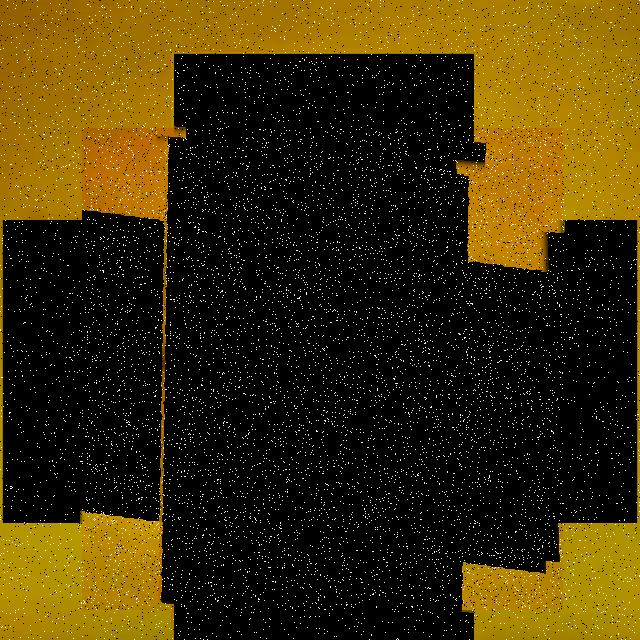lima puluh ribu rupiah: (82, 128, 563, 610)
